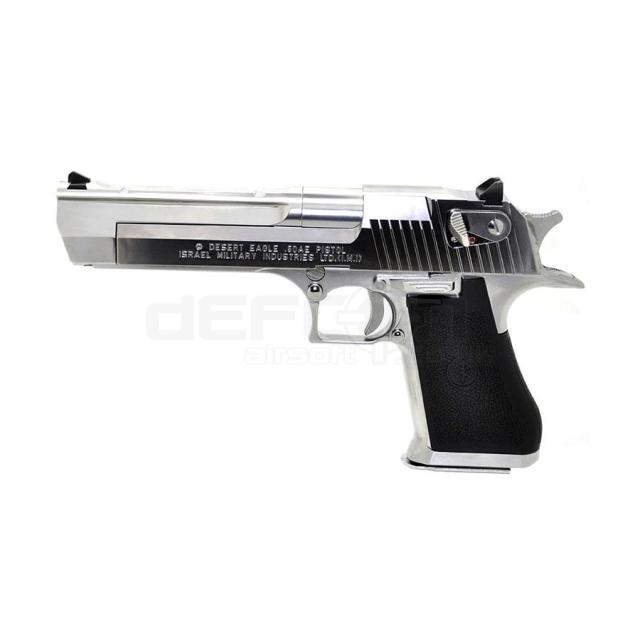handgun: (43, 160, 603, 481)
